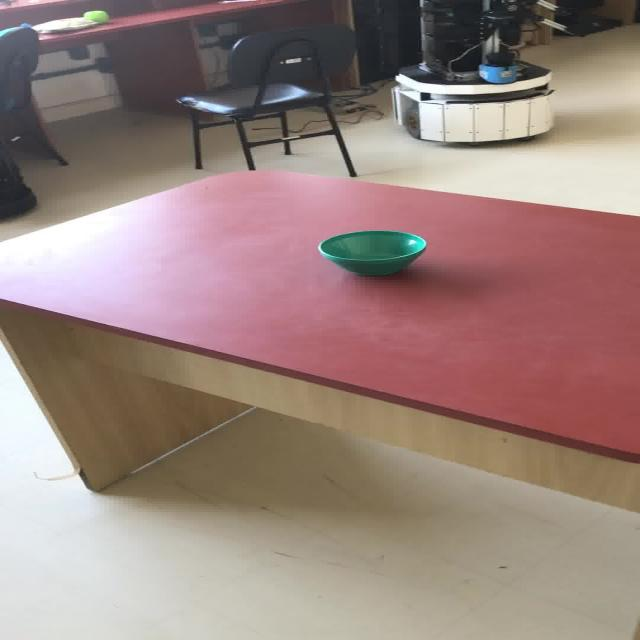bowl: (316, 229, 426, 276)
